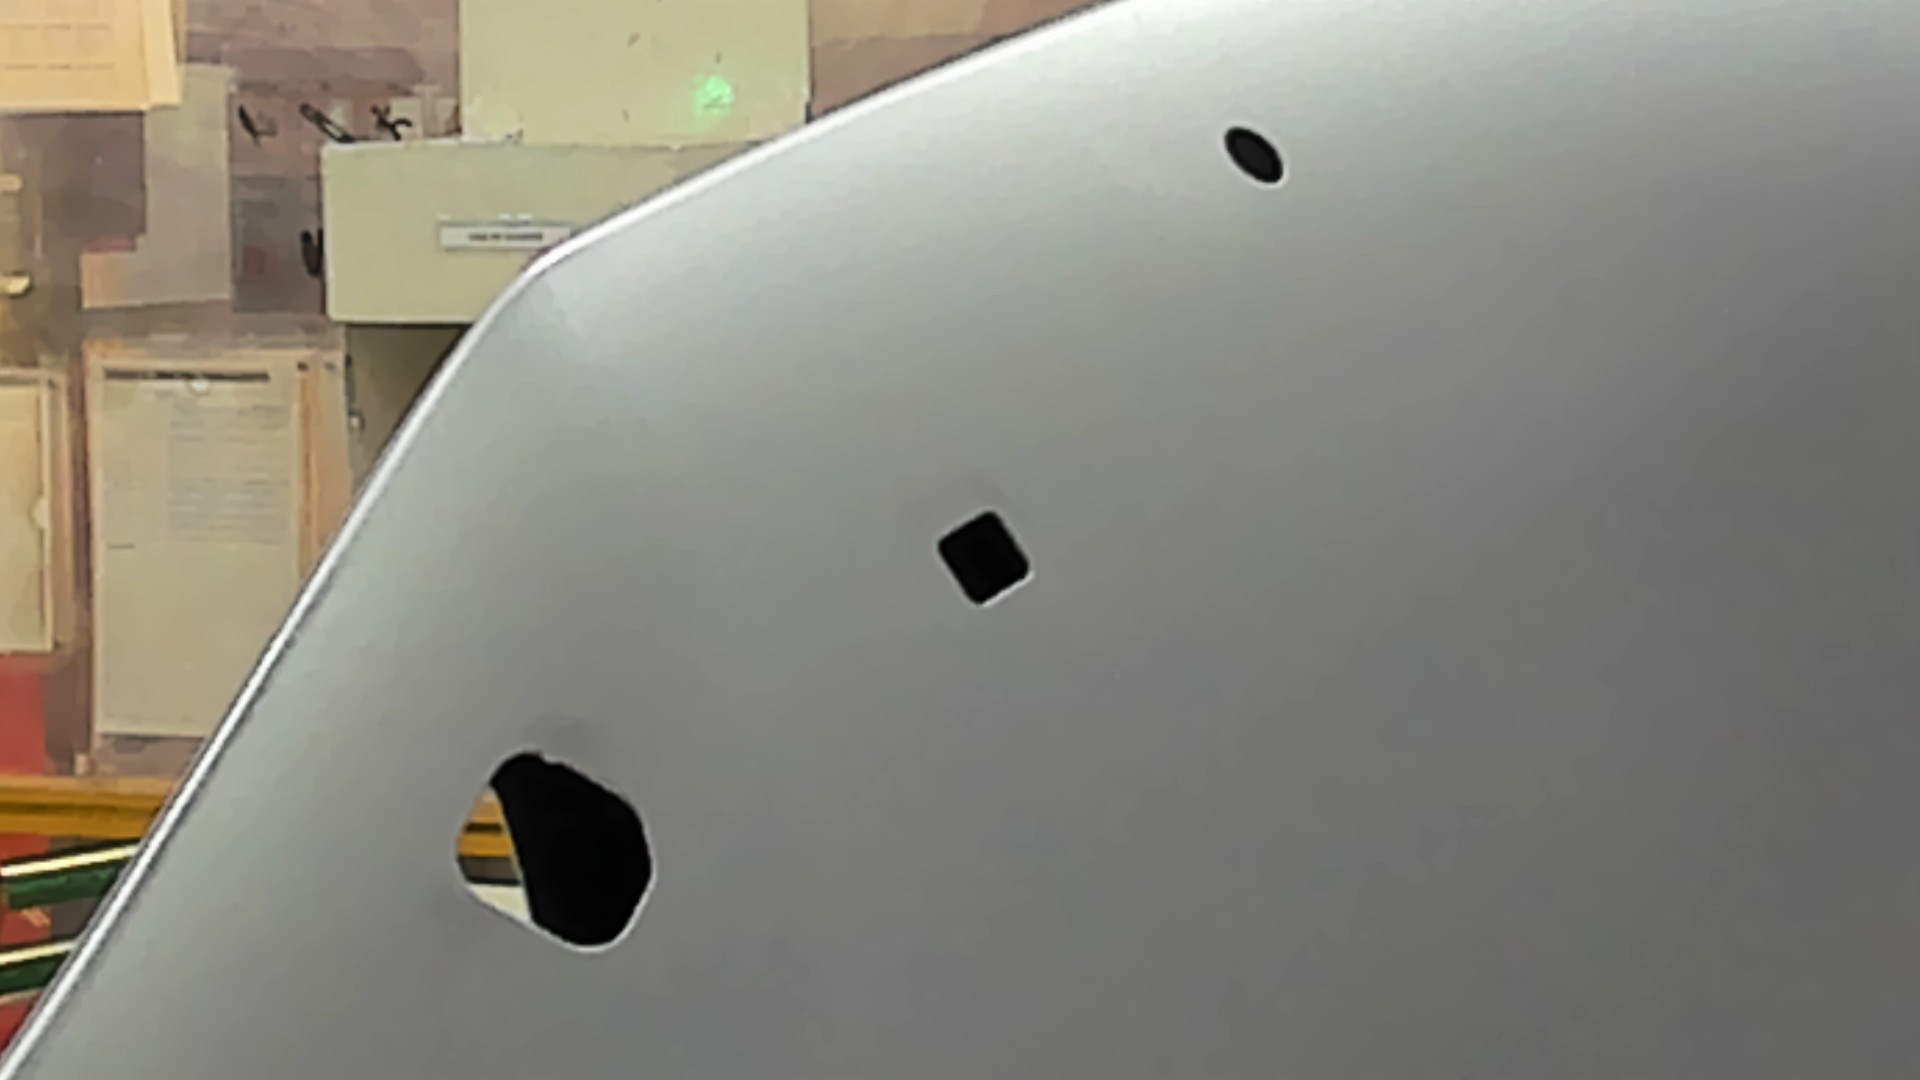chico: (1211, 111, 1309, 204)
grande: (425, 736, 709, 972)
mediano: (920, 488, 1052, 618)
